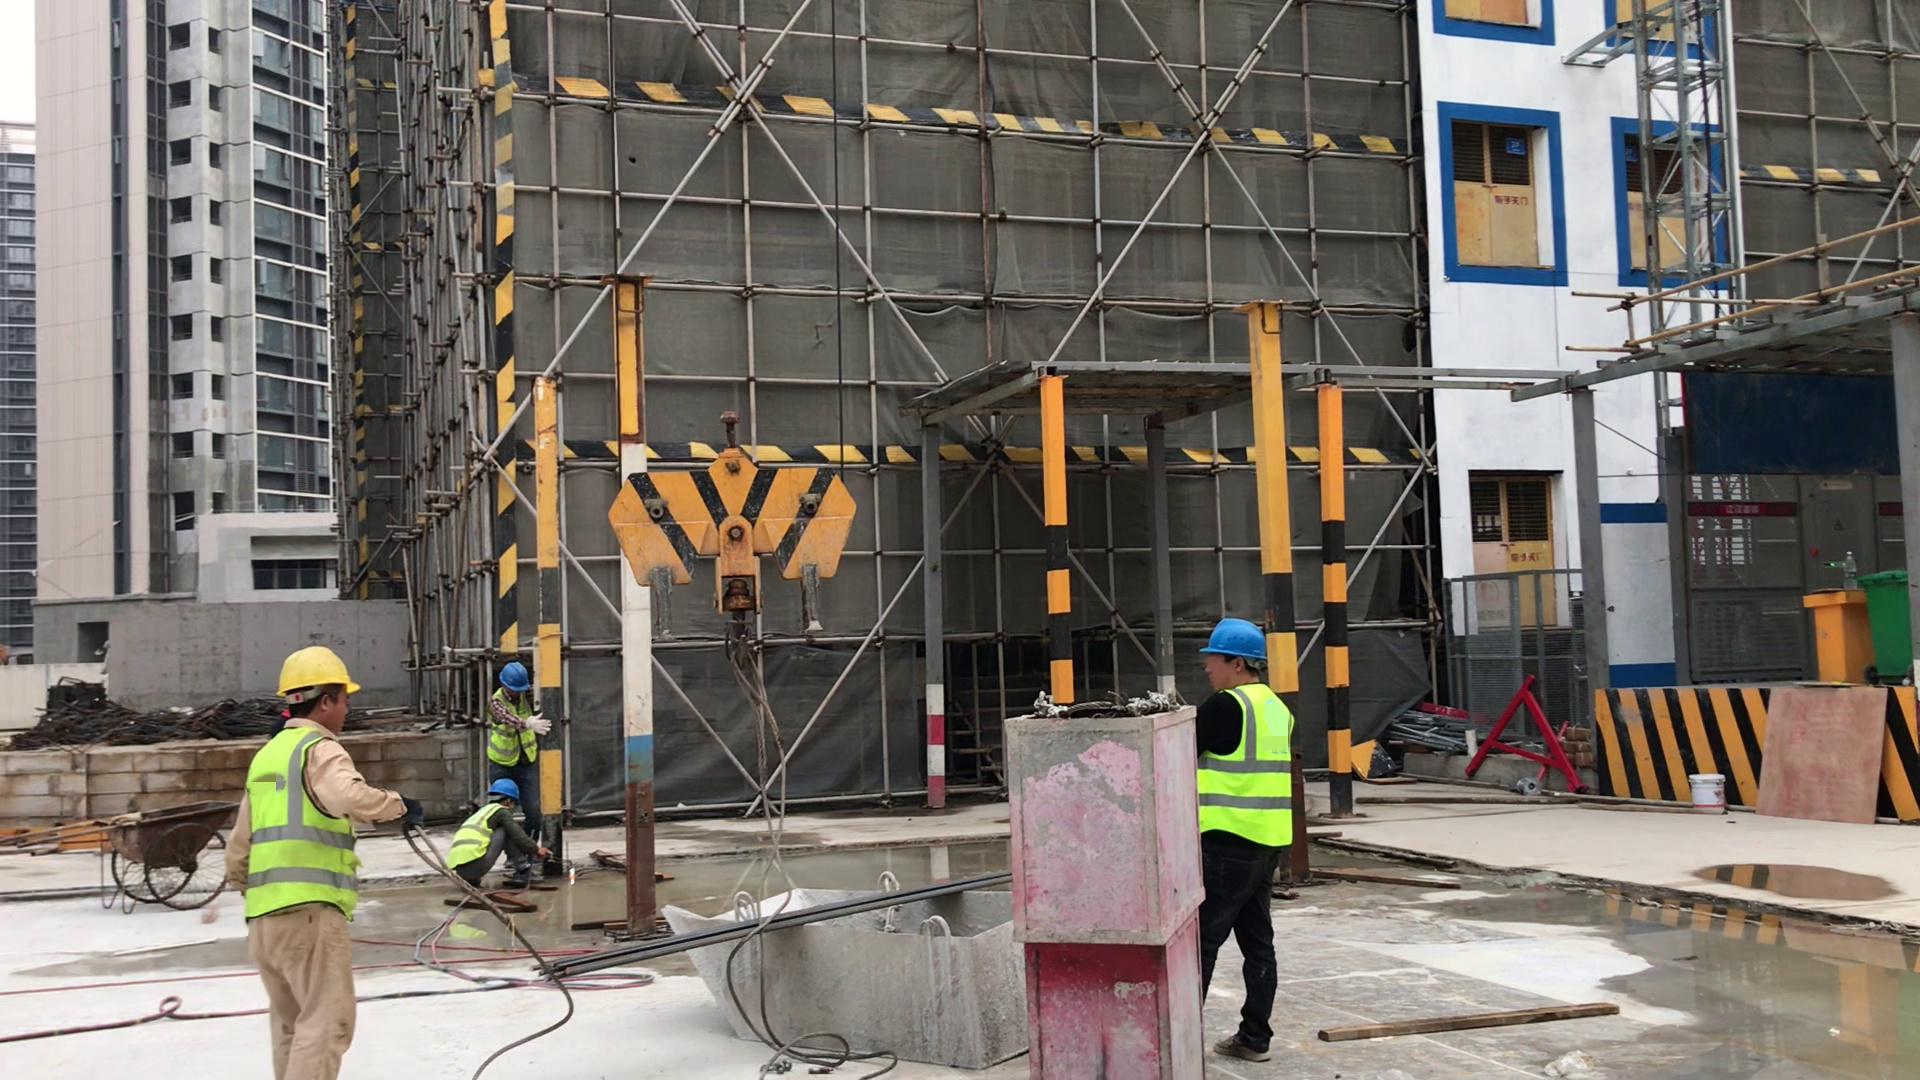helmet: (269, 645, 377, 710), (1201, 610, 1290, 669), (496, 657, 546, 692), (481, 776, 531, 808)
person: (221, 643, 419, 1080), (1182, 616, 1346, 1073), (450, 779, 577, 923), (478, 658, 565, 808)
vest: (236, 723, 373, 934), (1188, 681, 1298, 854), (448, 797, 508, 887), (481, 688, 550, 766)
